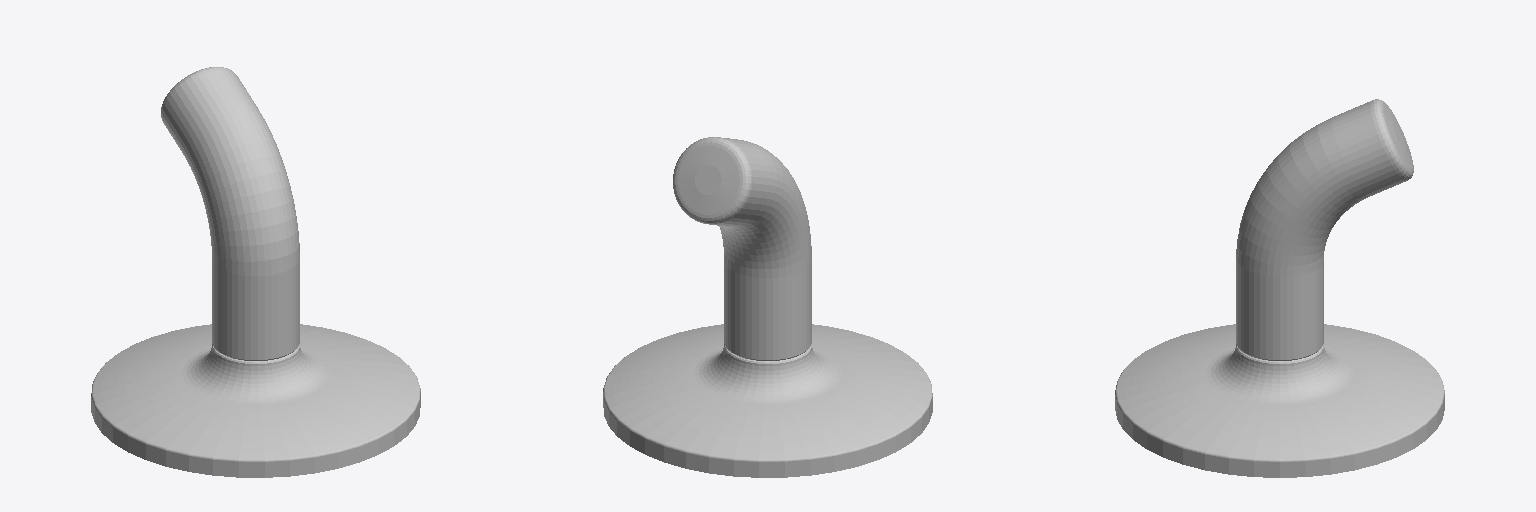
File: Robe_Hook_01.obj
The picture shows the model from 3 angles: view 1: azimuth 30°, elevation 25°; view 2: azimuth 150°, elevation 25°; view 3: azimuth 270°, elevation 25°; orthographic projection.
Visible parts, largest first — view 1: Robe_Hook_01; view 2: Robe_Hook_01; view 3: Robe_Hook_01.
Part boxes in pixels (left/top/right/bottom): Robe_Hook_01: left=91, top=67, right=420, bottom=477; Robe_Hook_01: left=603, top=137, right=932, bottom=477; Robe_Hook_01: left=1115, top=99, right=1444, bottom=477.
Bounding box in the file's own units: 2.36 × 2.41 × 2.36.